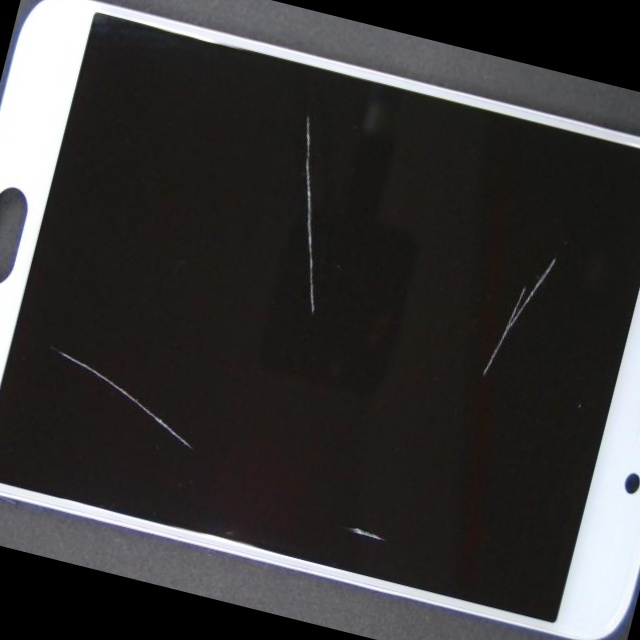scratch: (160, 249, 640, 640), (271, 19, 640, 425), (116, 157, 532, 495), (0, 61, 243, 578)
